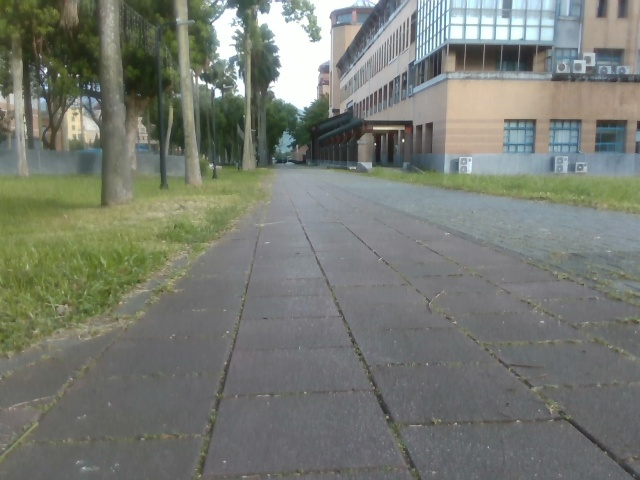grass: (0, 0, 327, 175), (0, 166, 272, 359), (339, 168, 639, 216)
road: (0, 165, 639, 479)
